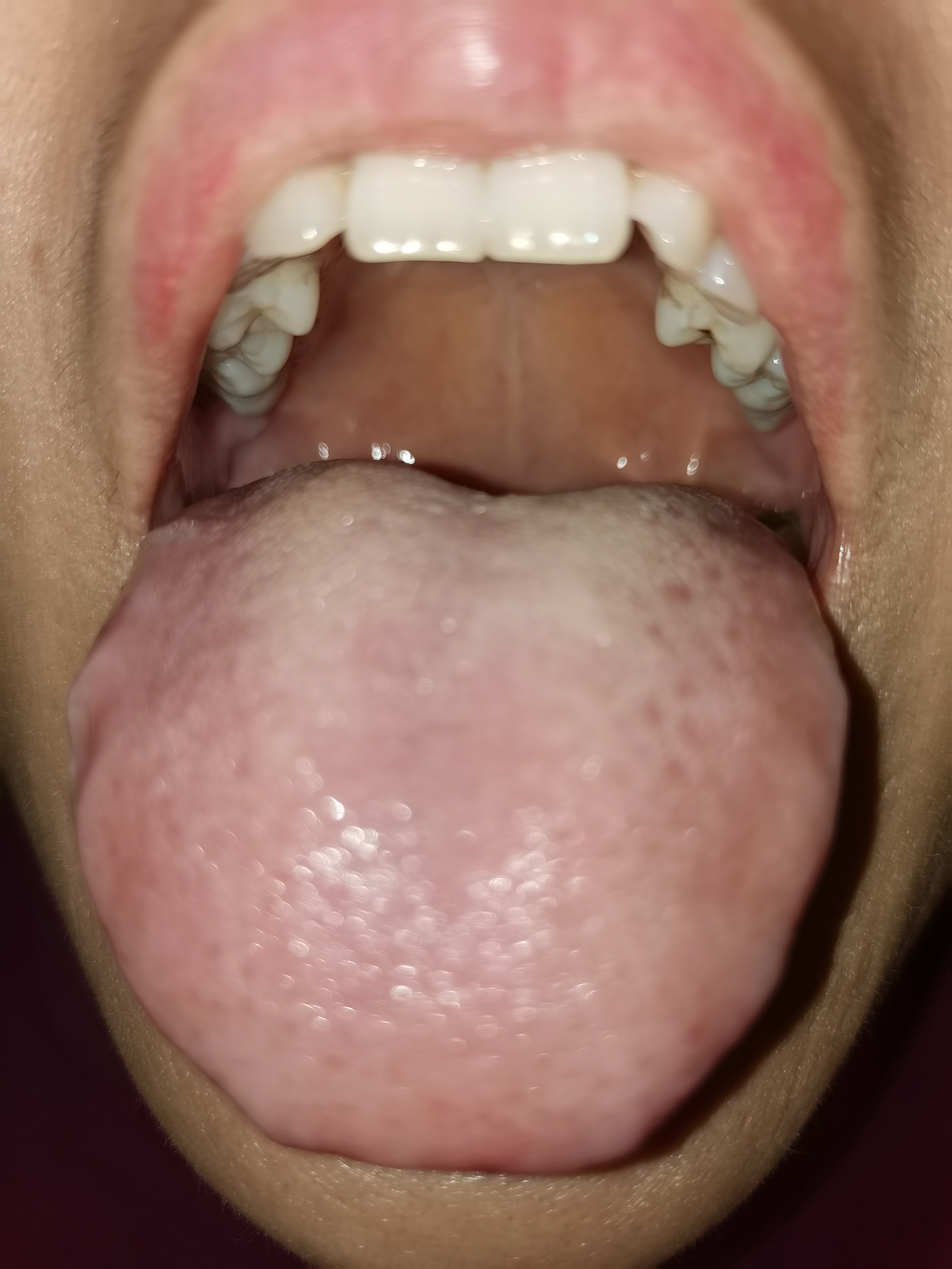baitaishe: (68, 459, 847, 1173)
hongdianshe: (643, 560, 746, 784)
